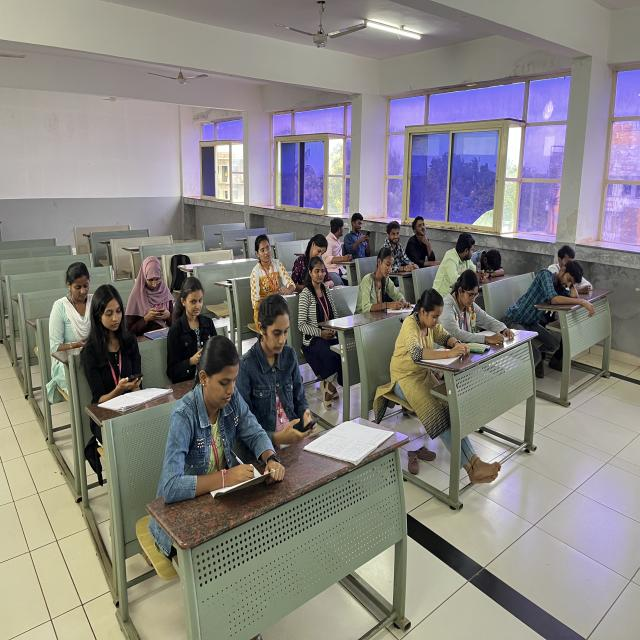Reading: (384, 291, 461, 398), (360, 244, 416, 332)
Sleeping: (512, 257, 590, 325), (482, 227, 514, 280)
Using Phone: (241, 286, 325, 438), (81, 284, 146, 412), (48, 221, 98, 352), (174, 276, 216, 375), (127, 253, 177, 336), (448, 231, 484, 285), (346, 206, 374, 266)
Writing: (163, 322, 276, 556)
